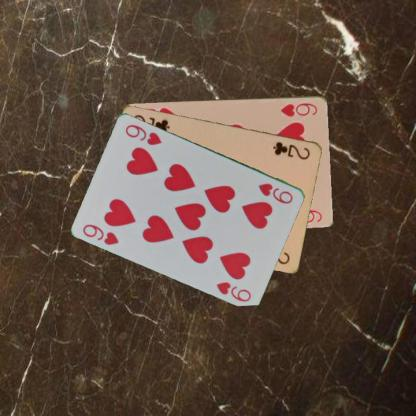2c: (270, 138, 312, 160)
6h: (278, 100, 319, 118)
9h: (80, 221, 121, 246), (256, 180, 295, 205)
